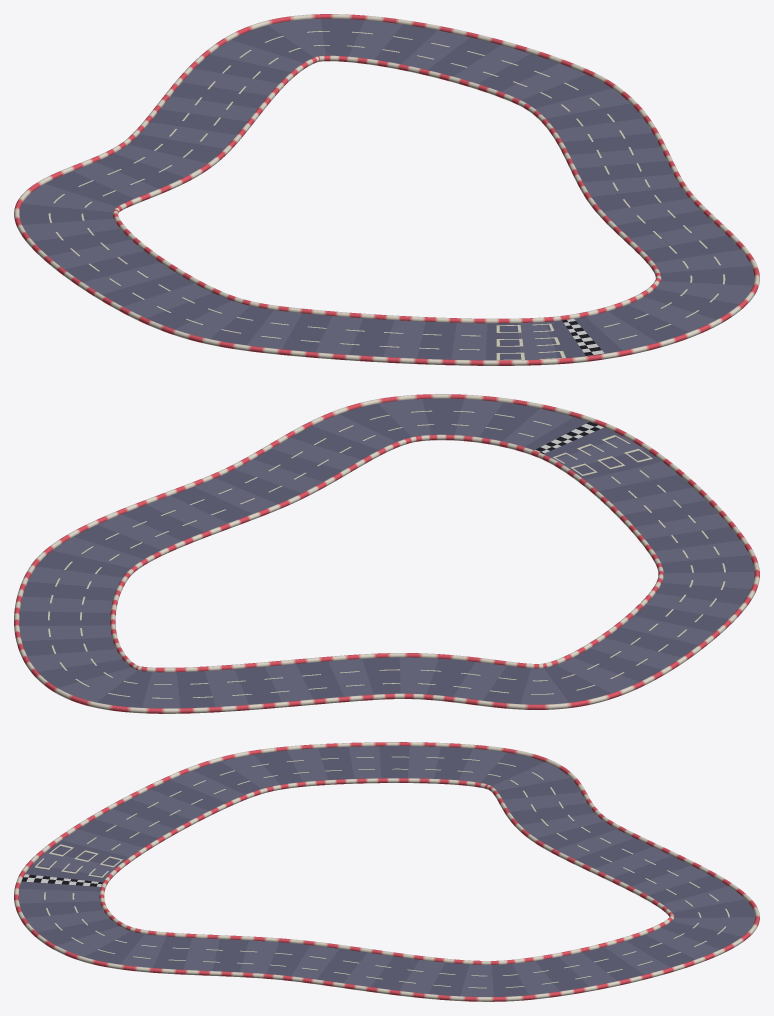
Rendered from highway-track-3.obj.
The picture shows the model from 3 angles, top to bottom: view 1: azimuth 30°, elevation 25°; view 2: azimuth 150°, elevation 25°; view 3: azimuth 270°, elevation 25°; orthographic projection. The views are drawn at different scales.
Visible parts, largest first — view 1: track; view 2: track; view 3: track.
Part boxes in pixels (x1=…): track: x1=14, y1=14, x2=759, y2=365; track: x1=14, y1=394, x2=759, y2=713; track: x1=14, y1=742, x2=759, y2=1001.
Bounding box in the file's own units: 8542 × 68 × 10480.
